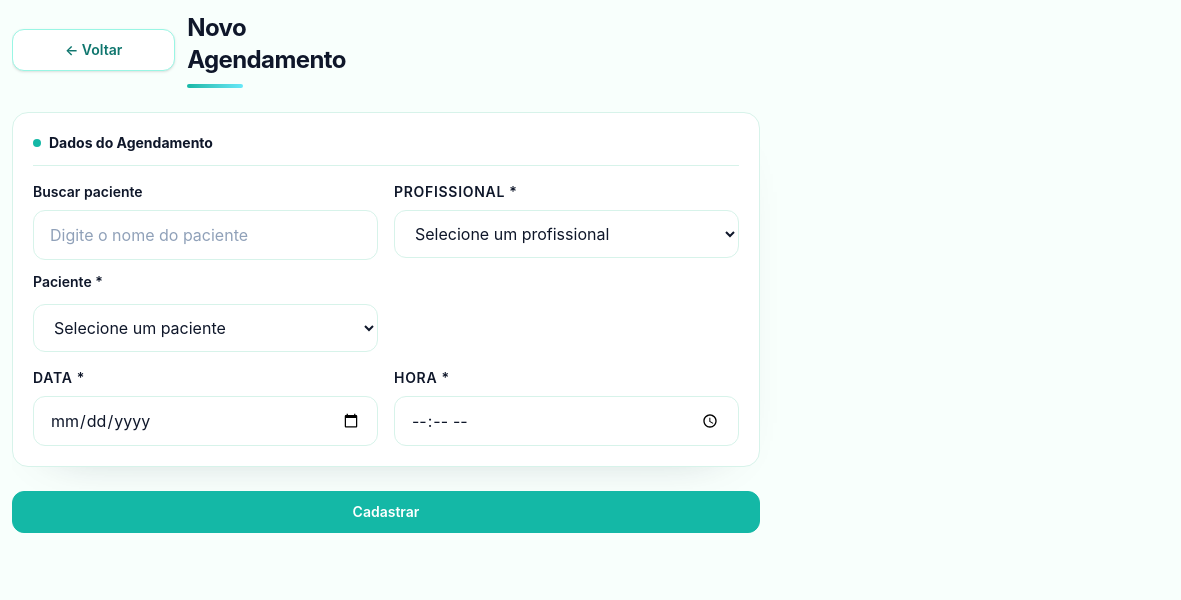
Test: mantém os campos e mostra conflito recusado pelo servidor
Select "Paciente" in the dropdown labelled "Paciente *" at {"x": 206, "y": 328}, box top-left (33, 304), bottom-right (378, 352)
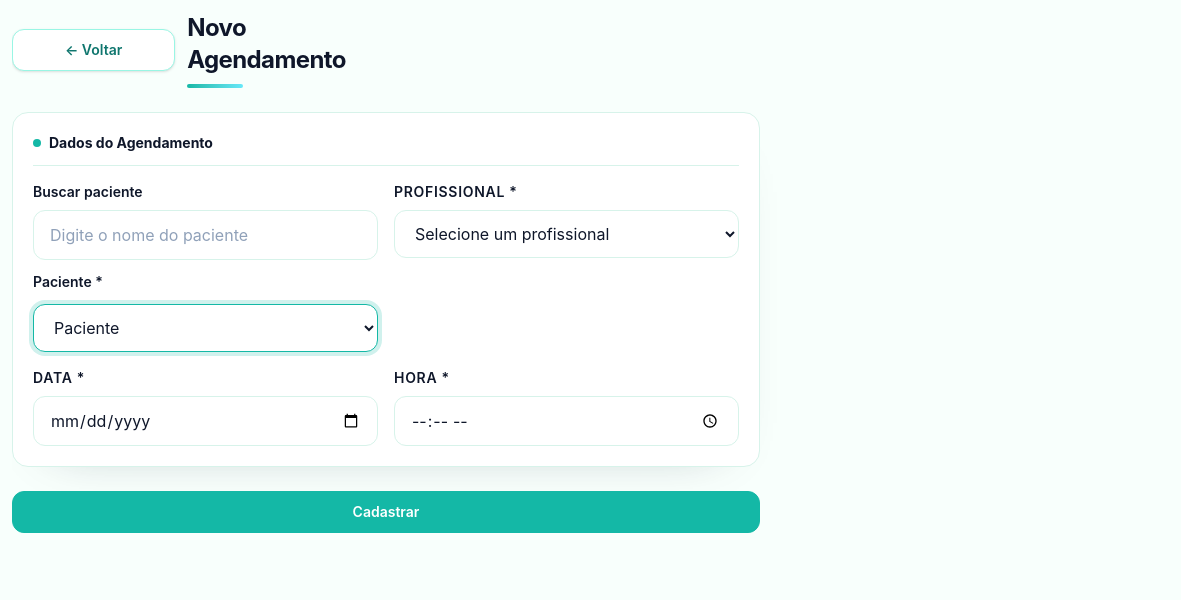
Select "Dra. Ana" in the dropdown labelled "Profissional *" at {"x": 566, "y": 234}, box top-left (394, 210), bottom-right (739, 258)
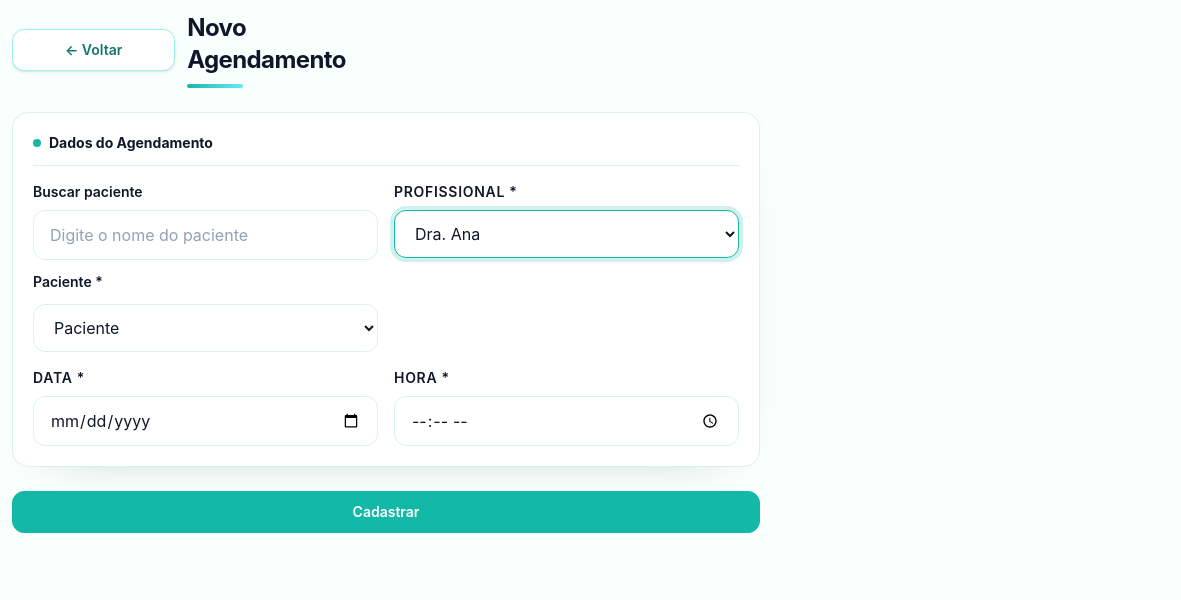
Type "2026-09-28" into the date field labelled "Data *" at {"x": 206, "y": 421}, box top-left (33, 396), bottom-right (378, 446)
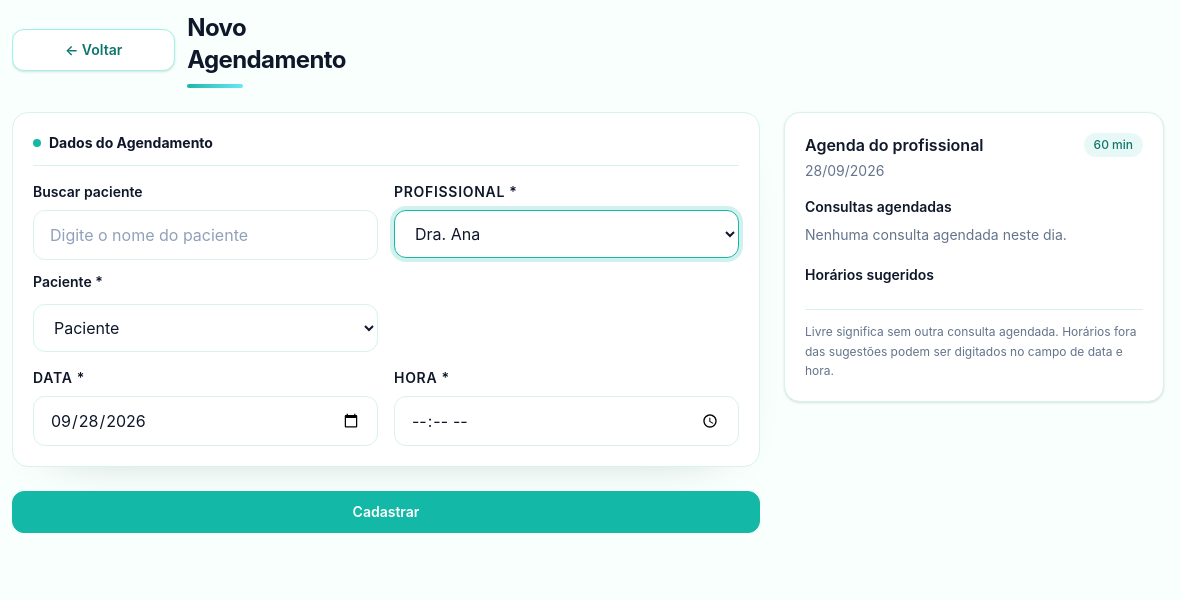
Expected: the text "Nenhuma consulta agendada neste dia." is shown, top-left (805, 226), bottom-right (1067, 243)
Type "10:30" into the time field labelled "Hora *" at {"x": 566, "y": 421}, box top-left (394, 396), bottom-right (739, 446)
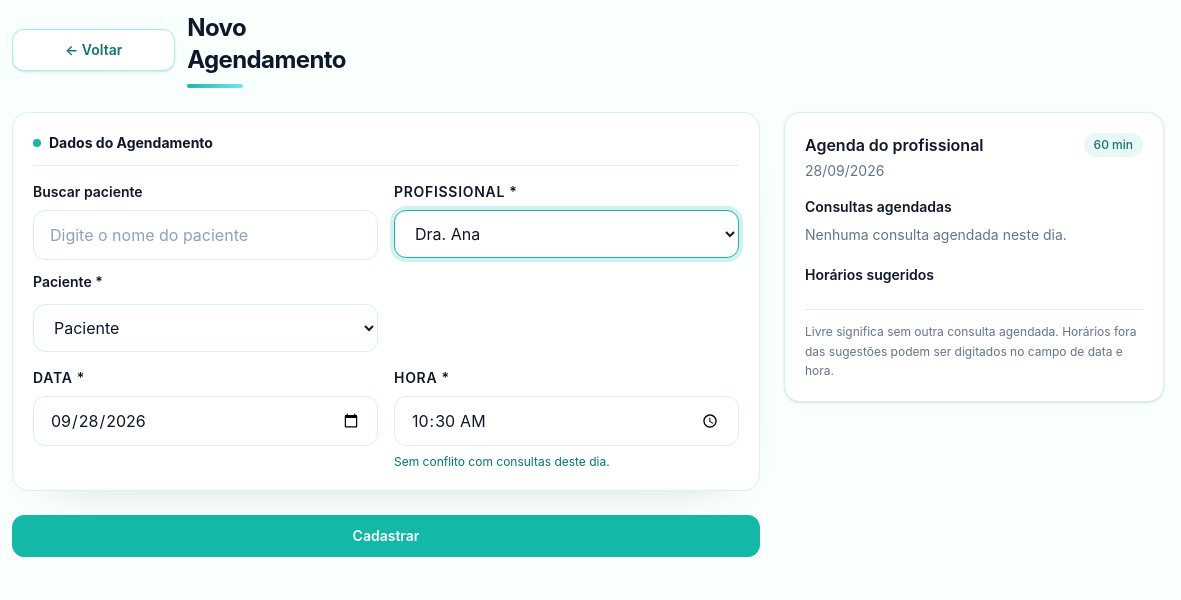
Click the button "Cadastrar" at {"x": 386, "y": 536}, box top-left (12, 515), bottom-right (760, 557)
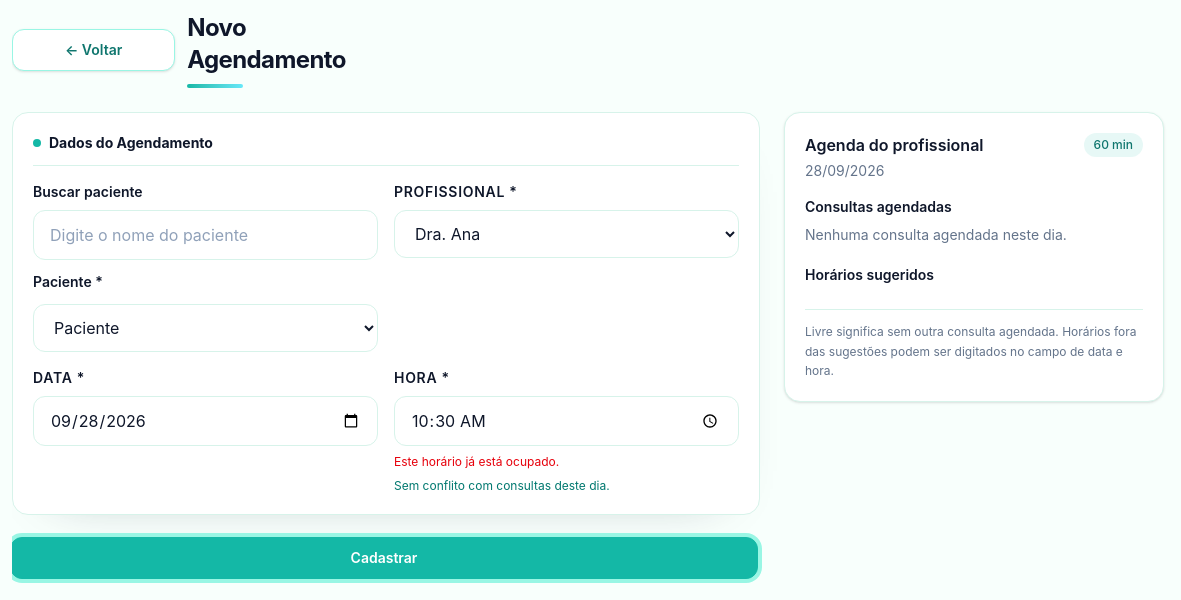
Expected: the text "Este horário já está ocupado." is shown, top-left (394, 454), bottom-right (559, 469)
